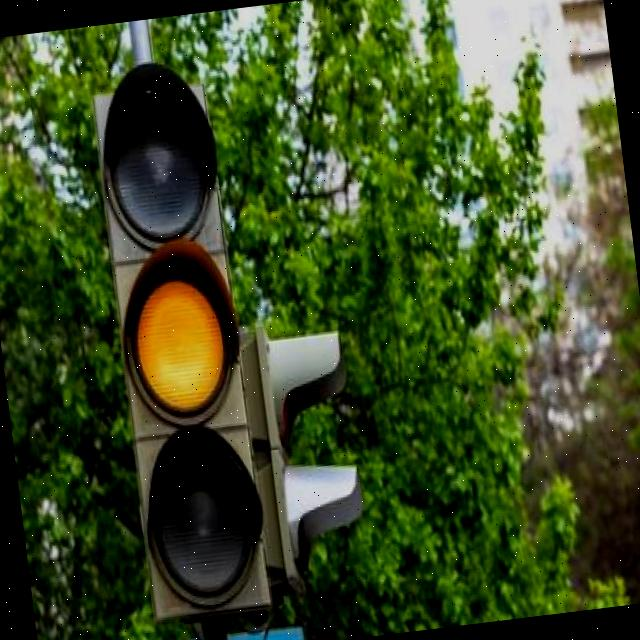yellow_light: (92, 81, 273, 621)
